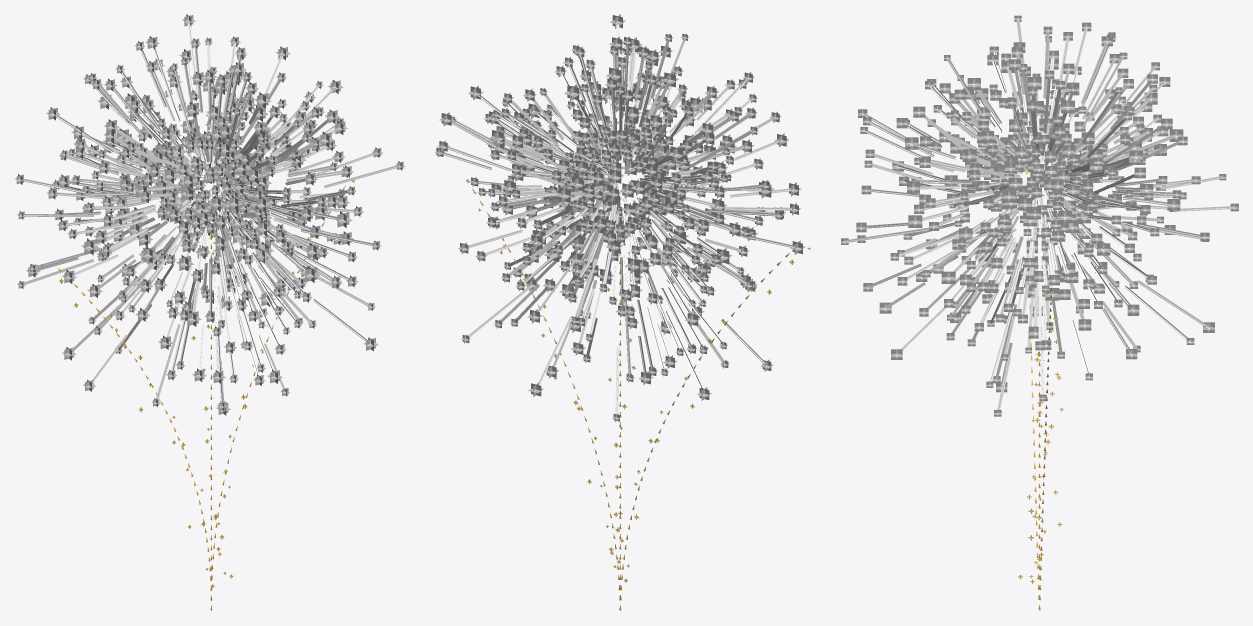
The model's file is ohnostroj.glb.
The picture shows the model from 3 angles, left to right: view 1: azimuth 30°, elevation 25°; view 2: azimuth 150°, elevation 25°; view 3: azimuth 270°, elevation 25°; orthographic projection.
Parts seen in each view (by area): view 1: snimek_03, snimek_02, snimek_01, snimek_00; view 2: snimek_03, snimek_02, snimek_01, snimek_00; view 3: snimek_03, snimek_02, snimek_01, snimek_00.
Part boxes in pixels (x1,y1,x2,y2): snimek_03: [14, 14, 405, 415]; snimek_02: [71, 50, 353, 326]; snimek_01: [134, 116, 278, 251]; snimek_00: [41, 180, 355, 610]; snimek_03: [435, 14, 805, 421]; snimek_02: [489, 37, 774, 332]; snimek_01: [548, 105, 697, 253]; snimek_00: [466, 179, 810, 610]; snimek_03: [841, 15, 1238, 416]; snimek_02: [905, 47, 1183, 338]; snimek_01: [967, 110, 1107, 253]; snimek_00: [1018, 169, 1063, 610].
Bounding box in the file's own units: 19.78 × 32.05 × 19.98.
Materials: 2 (2 with a texture image).
